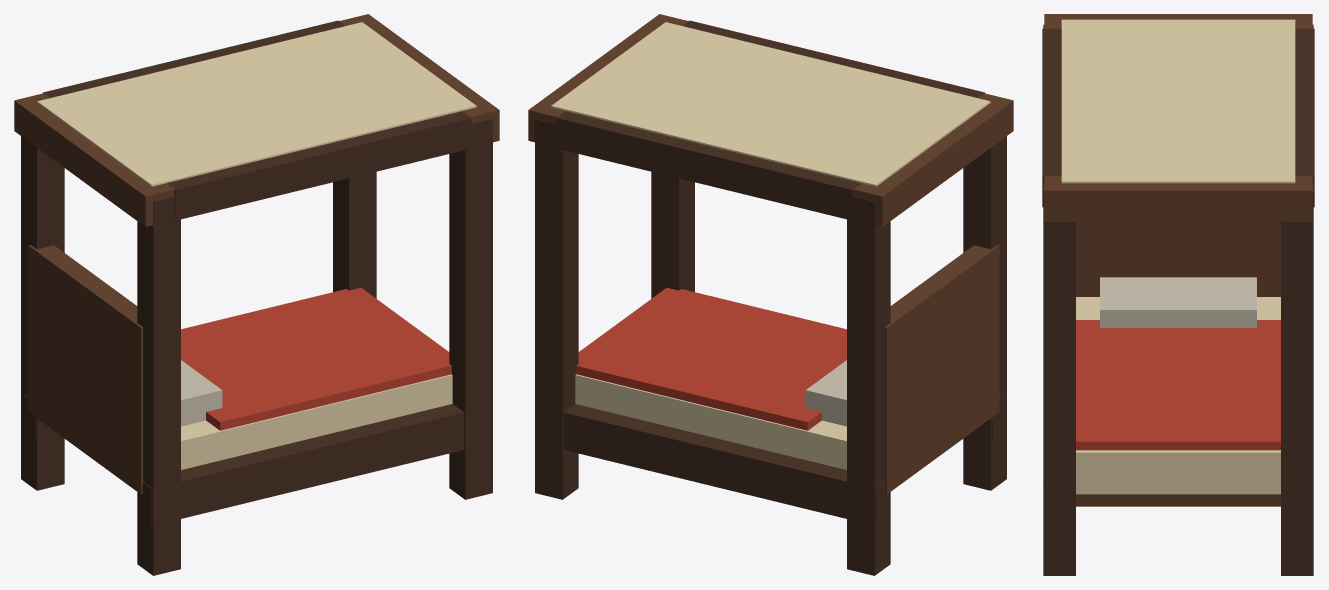
File: Bed__Tester.fbx
3 views of the same model, side by side, from view 1: azimuth 30°, elevation 25°; view 2: azimuth 150°, elevation 25°; view 3: azimuth 270°, elevation 25° (orthographic). The views are drawn at different scales.
Visible parts, largest first — view 1: Bed__Tester; view 2: Bed__Tester; view 3: Bed__Tester.
Boxes of the visible parts, x1,y1,x2,y2 form: Bed__Tester: (14, 14, 499, 575); Bed__Tester: (528, 14, 1013, 575); Bed__Tester: (1042, 14, 1314, 575).
Bounding box in the file's own units: 218 × 225 × 142.
1 material, 1 textured.
